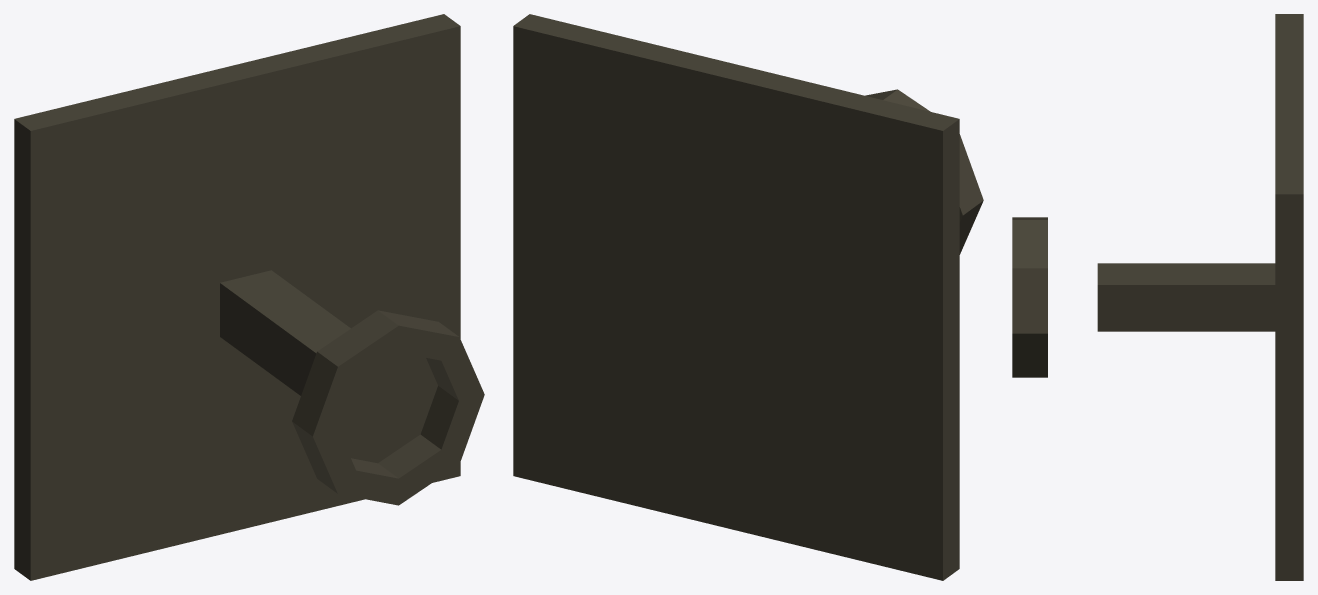
File: SM_Stall_AwningEye_01.fbx
3 views of the same model, side by side, from view 1: azimuth 30°, elevation 25°; view 2: azimuth 150°, elevation 25°; view 3: azimuth 270°, elevation 25° (orthographic). The views are drawn at different scales.
Parts seen in each view (by area): view 1: SM_Stall_AwningEye_01; view 2: SM_Stall_AwningEye_01; view 3: SM_Stall_AwningEye_01.
Boxes of the visible parts, x1,y1,x2,y2 form: SM_Stall_AwningEye_01: (14, 14, 484, 580); SM_Stall_AwningEye_01: (513, 14, 983, 580); SM_Stall_AwningEye_01: (1012, 14, 1303, 580).
Bounding box in the file's own units: 0.15 × 0.15 × 0.1025.
1 material, 1 textured.
